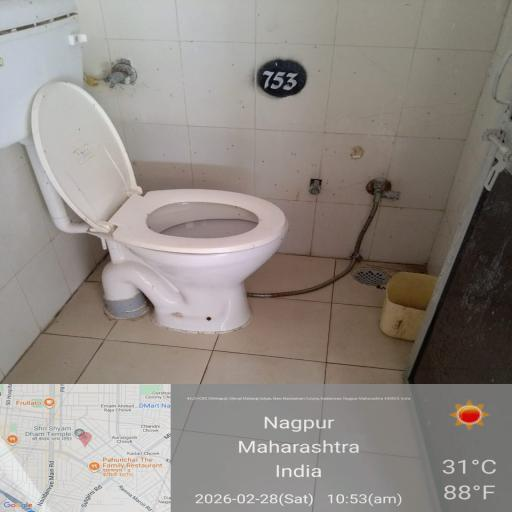clean_basin: (300, 9, 511, 249)
clean_floor: (53, 288, 496, 512)
clean_western: (23, 46, 320, 358)
